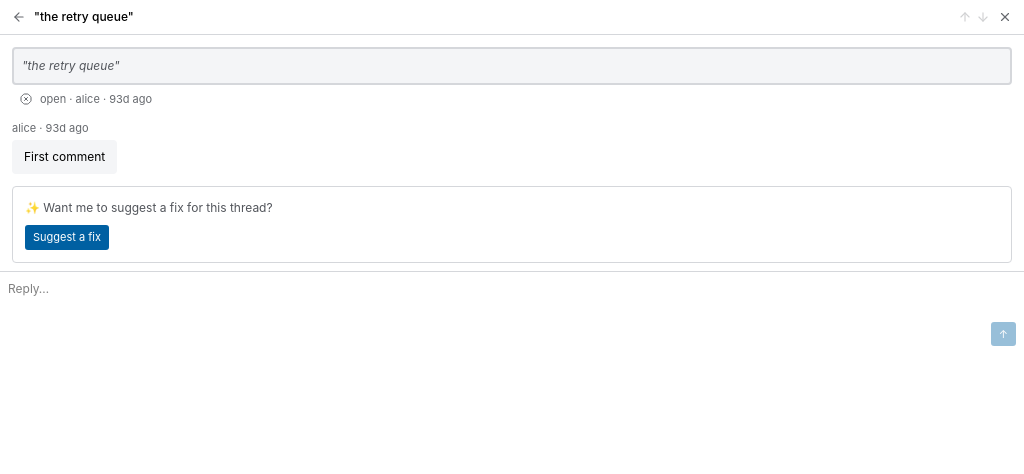
Test: Reply flow (mode='reply') › shows queued card with AI-enhanced text after sending
Type "my reply" into the text box with placeholder "Reply…" at (512, 298), box 8,280 -> 1016,316
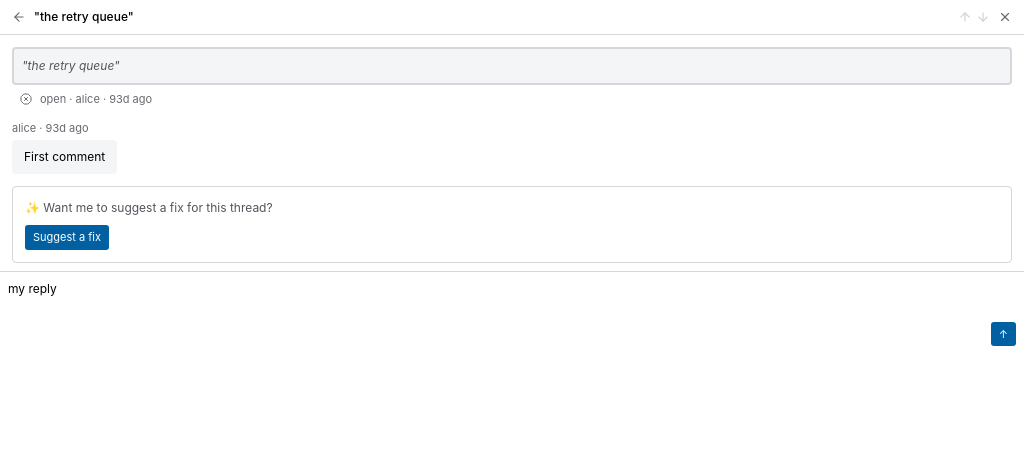
Click the button "↑" at (1003, 334), box 991,322 -> 1016,346
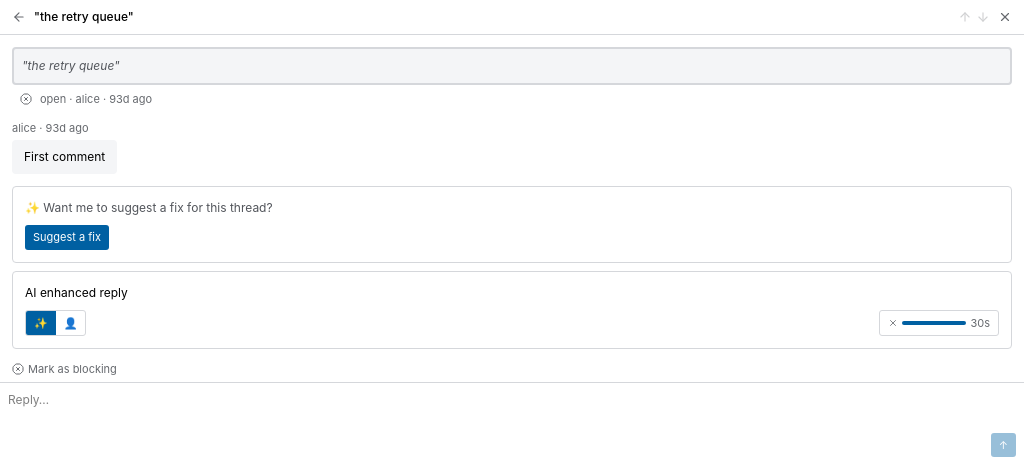
Expected: the element with test id "queued-reply-card" is shown, 12,270 -> 1012,349
Expected: the text "AI enhanced reply" is shown, 25,284 -> 128,300
